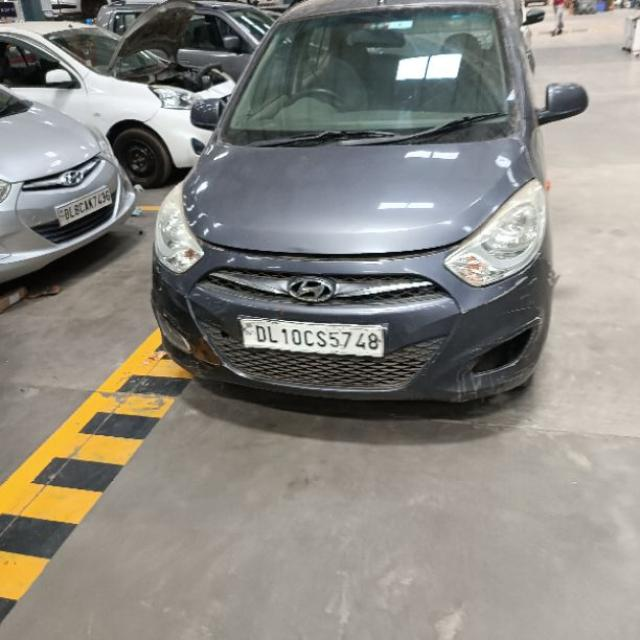license_plate: (237, 314, 386, 358), (53, 184, 113, 227)
